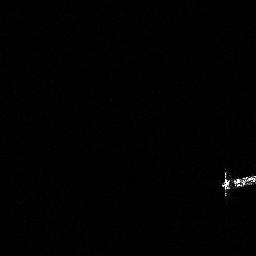ship: (221, 174, 255, 190)
